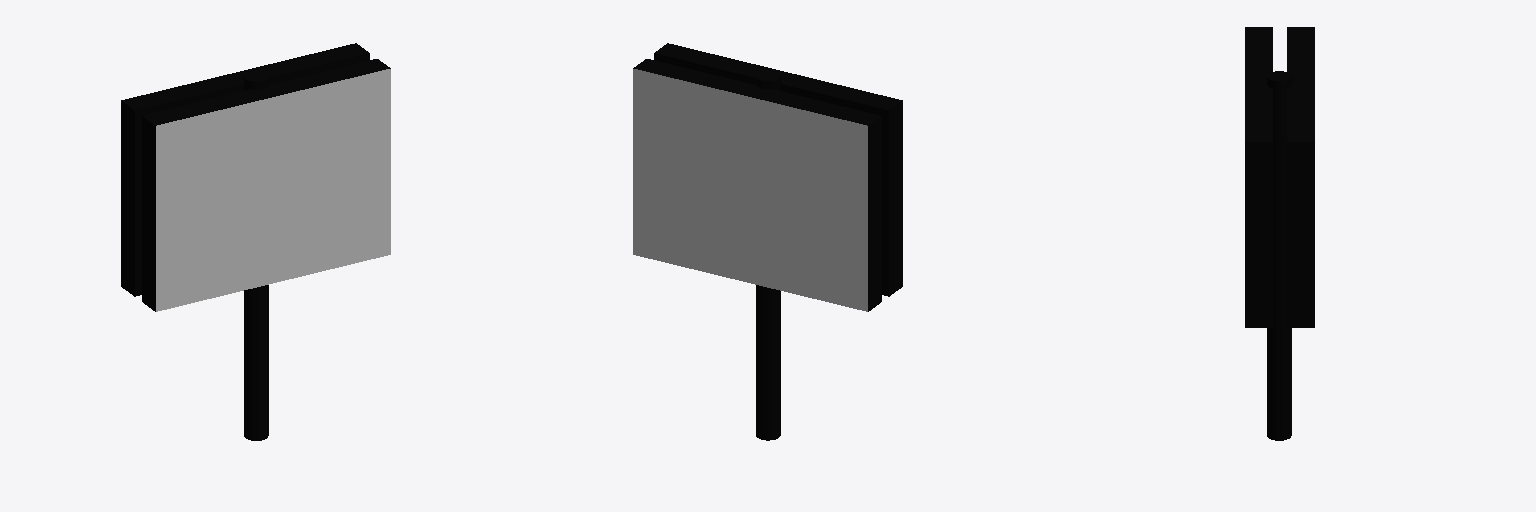
The model's file is shitday.obj.
3 renders of one model, left to right at view 1: azimuth 30°, elevation 25°; view 2: azimuth 150°, elevation 25°; view 3: azimuth 270°, elevation 25°, orthographic.
Parts seen in each view (by area): view 1: Cube_Cube.001, Cube.001_Cube.002, Cylinder; view 2: Cube.001_Cube.002, Cube_Cube.001, Cylinder; view 3: Cube.001_Cube.002, Cube_Cube.001, Cylinder.
Boxes of the visible parts, x1=… form: Cube_Cube.001: x1=142, y1=59, x2=390, y2=311; Cube.001_Cube.002: x1=121, y1=43, x2=369, y2=296; Cylinder: x1=244, y1=71, x2=268, y2=440; Cube.001_Cube.002: x1=633, y1=59, x2=881, y2=311; Cube_Cube.001: x1=654, y1=43, x2=902, y2=296; Cylinder: x1=756, y1=71, x2=780, y2=440; Cube.001_Cube.002: x1=1287, y1=27, x2=1314, y2=327; Cube_Cube.001: x1=1245, y1=27, x2=1272, y2=327; Cylinder: x1=1267, y1=71, x2=1291, y2=440.
Size of the model in its own units: 4 by 5.84 by 1.02.